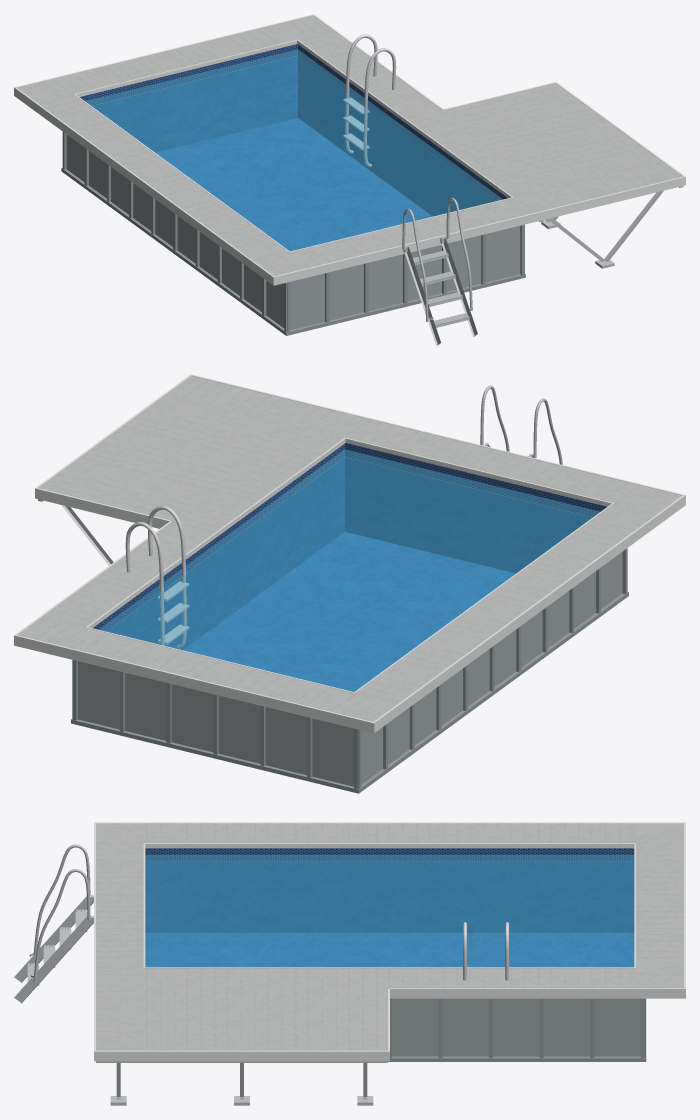
The model's file is kayak-pool-12x20-gray-l-ag-nofence.e0658c2d25.glb.
3 views of the same model, one above another, from view 1: azimuth 30°, elevation 25°; view 2: azimuth 150°, elevation 25°; view 3: azimuth 270°, elevation 25° (orthographic). The views are drawn at different scales.
Parts seen in each view (by area): view 1: water, deck, liner_wall, liner_floor, wall, fascia, upright, ladder, steel, stud; view 2: water, deck, liner_wall, liner_floor, wall, fascia, upright, steel, ladder; view 3: water, deck, liner_wall, liner_floor, wall, fascia, ladder, upright, stud, steel.
Part boxes in pixels (bbox=[...]): water: bbox=[85, 49, 502, 250]; deck: bbox=[17, 15, 682, 276]; liner_wall: bbox=[79, 44, 507, 216]; liner_floor: bbox=[156, 118, 432, 251]; wall: bbox=[66, 134, 520, 330]; fascia: bbox=[14, 14, 685, 285]; upright: bbox=[61, 132, 525, 335]; ladder: bbox=[402, 197, 477, 345]; steel: bbox=[343, 34, 396, 167]; stud: bbox=[539, 186, 683, 268]; water: bbox=[99, 449, 599, 691]; deck: bbox=[17, 376, 682, 721]; liner_wall: bbox=[93, 443, 606, 649]; liner_floor: bbox=[183, 532, 515, 691]; wall: bbox=[78, 552, 622, 786]; fascia: bbox=[14, 374, 685, 733]; upright: bbox=[71, 548, 628, 793]; steel: bbox=[125, 505, 189, 648]; ladder: bbox=[480, 385, 562, 464]; water: bbox=[145, 854, 634, 967]; deck: bbox=[96, 823, 683, 1050]; liner_wall: bbox=[145, 848, 634, 932]; liner_floor: bbox=[145, 933, 634, 967]; wall: bbox=[392, 998, 640, 1056]; fascia: bbox=[94, 822, 685, 1061]; ladder: bbox=[14, 844, 93, 1003]; upright: bbox=[388, 998, 646, 1061]; stud: bbox=[96, 1061, 387, 1105]; steel: bbox=[463, 922, 508, 980].
Bounding box in the file's own units: 6.71 × 1.9 × 8.3.
Materials: 10 (3 with a texture image).
